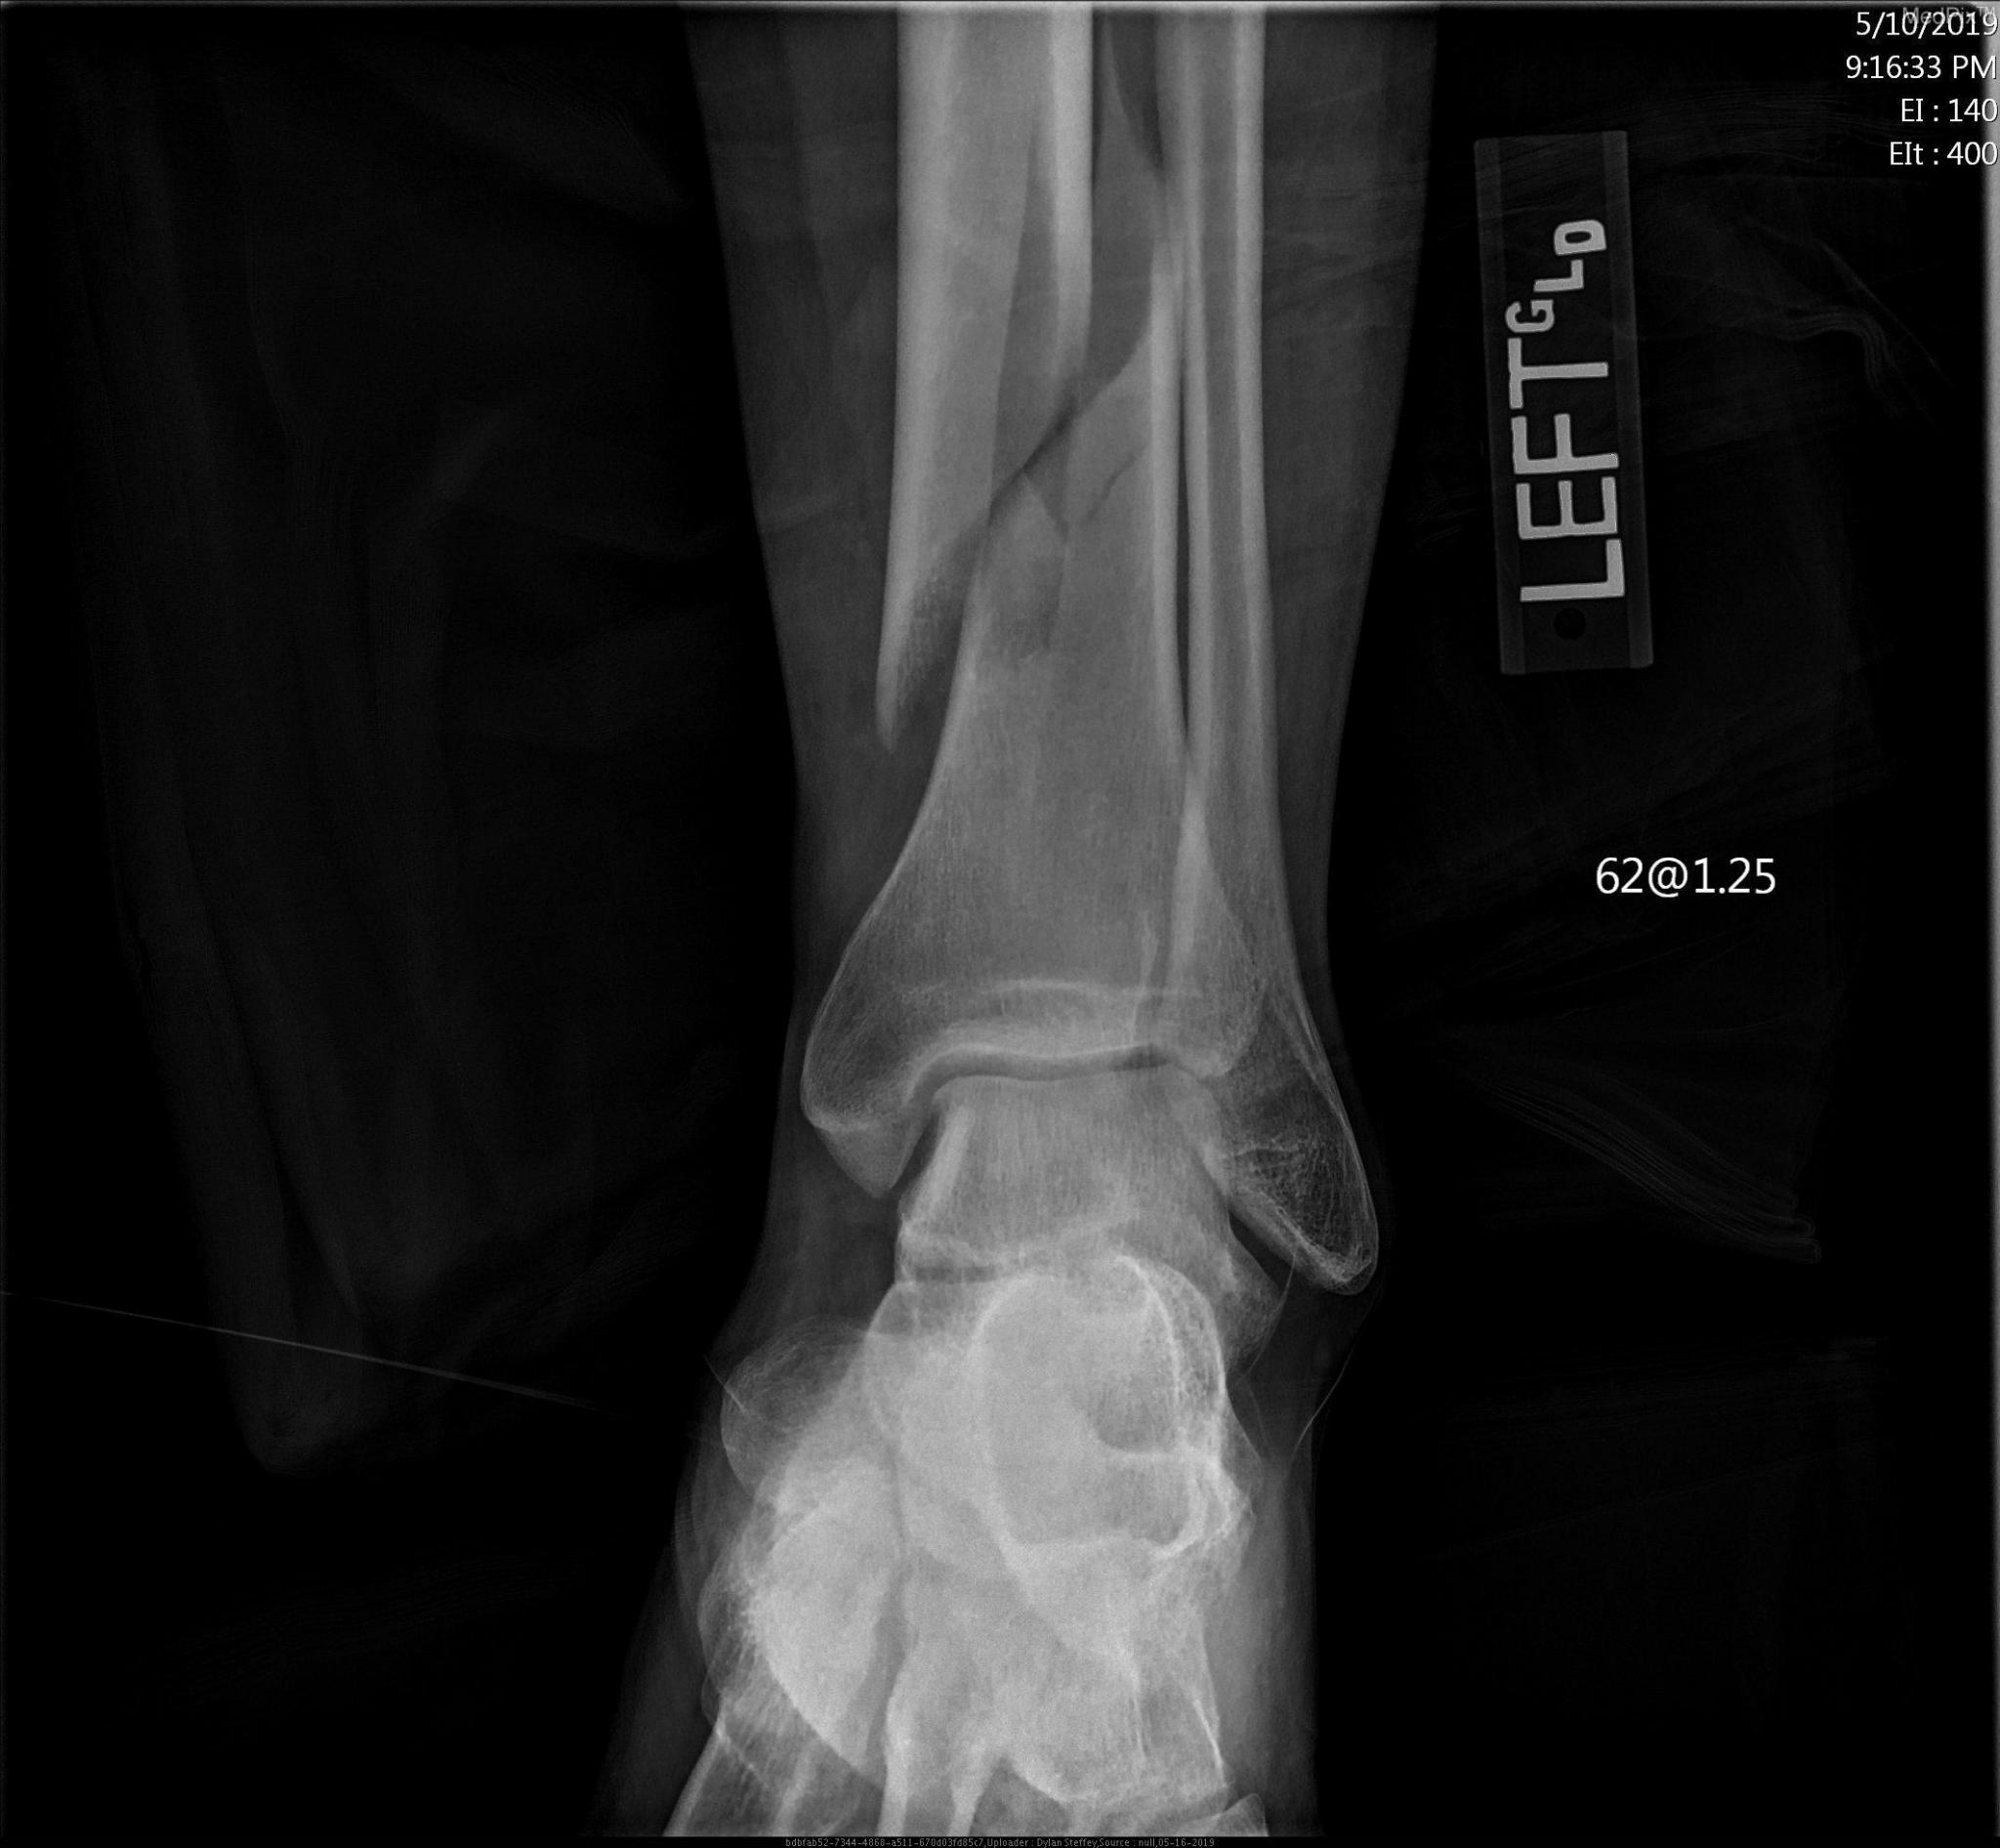messed_up_angle: (883, 52, 1182, 765)
